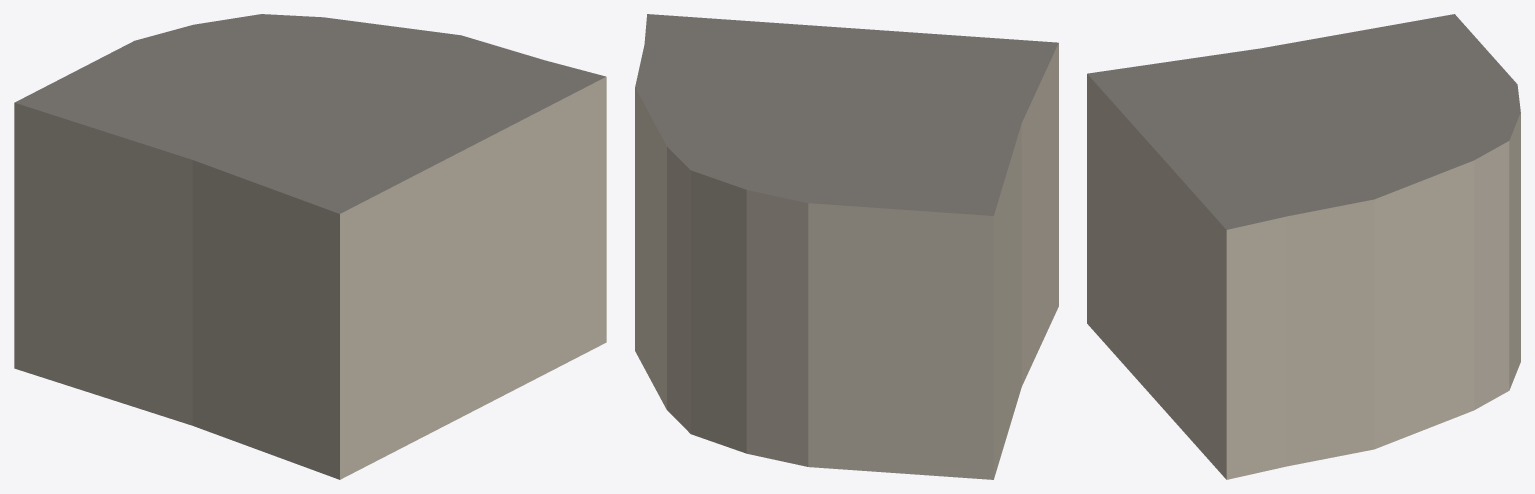
3 views of the same model, side by side, from view 1: azimuth 30°, elevation 25°; view 2: azimuth 150°, elevation 25°; view 3: azimuth 270°, elevation 25° (orthographic). The views are drawn at different scales.
Visible parts, largest first — view 1: HP-w414733204; view 2: HP-w414733204; view 3: HP-w414733204.
Boxes of the visible parts, bbox=[...] form: HP-w414733204: bbox=[14, 14, 606, 479]; HP-w414733204: bbox=[635, 14, 1058, 479]; HP-w414733204: bbox=[1087, 14, 1520, 479].
Size of the model in its own units: 27.79 by 15 by 23.58.
